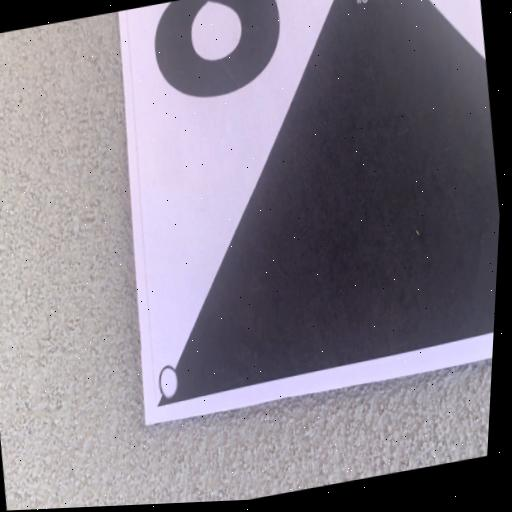target8: (119, 0, 499, 425)
